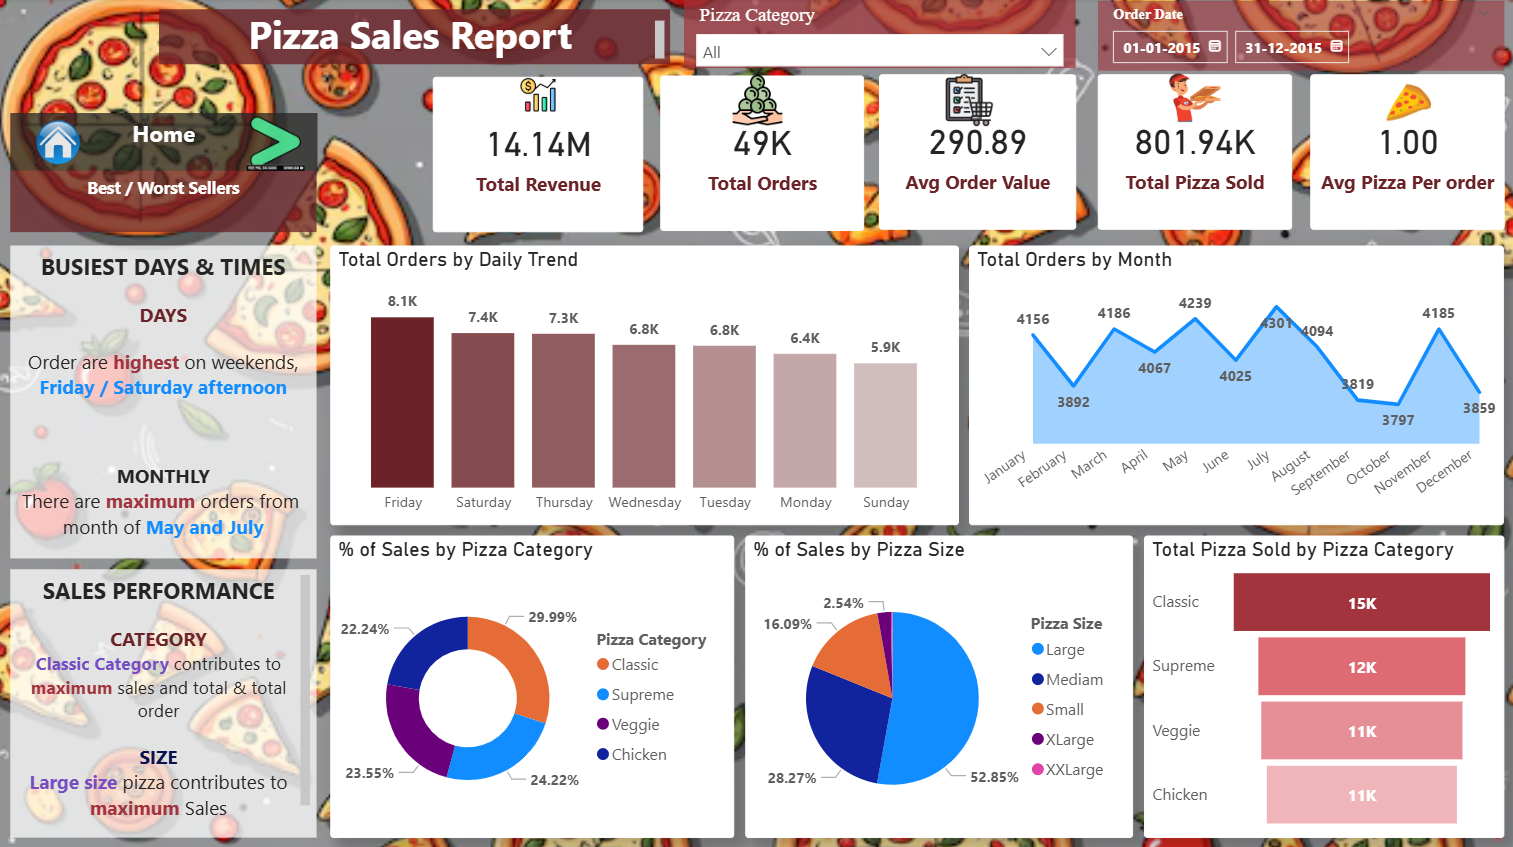

What the dashboard file says about the page in this screenshot:
{"tool":"powerbi","page":{"name":"Page 1","canvas":[1280,720],"ordinal":0},"visuals":[{"type":"clusteredColumnChart","fields":{"Y":["pizza_sales.Total Order"],"Category":["pizza_sales.Day Name"]},"box":[279.1,209.3,530.2,236],"z":0},{"type":"card","fields":{"Values":["pizza_sales.Total Order"]},"box":[558.1,65.1,172.1,131.4],"z":1000},{"type":"areaChart","fields":{"Category":["pizza_sales.order_date.Variation.Date Hierarchy.Month"],"Y":["pizza_sales.Total Order"]},"box":[818.6,209.3,451.2,236],"z":2000},{"type":"donutChart","fields":{"Category":["pizza_sales.pizza_category"],"Y":["pizza_sales.Total Order"]},"box":[279.4,453.4,340.6,255.2],"z":3000},{"type":"card","fields":{"Values":["pizza_sales.Total Sales"]},"box":[366.3,66.3,177.9,131.4],"z":4000},{"type":"pieChart","fields":{"Y":["pizza_sales.Total Sales"],"Category":["pizza_sales.pizza_size"]},"box":[629.5,453.4,326.9,255.2],"z":5000},{"type":"funnel","fields":{"Category":["pizza_sales.pizza_category"],"Y":["pizza_sales.Total Pizza Sold"]},"box":[965.9,453.4,303.7,255.2],"z":6000},{"type":"card","fields":{"Values":["pizza_sales.AOV"]},"box":[741.9,64,166.3,131.4],"z":7000},{"type":"card","fields":{"Values":["pizza_sales.Total Sold"]},"box":[926.7,64,164,131.4],"z":8000},{"type":"card","fields":{"Values":["pizza_sales.Avg Pizza Per order"]},"box":[1105.8,64,164,131.4],"z":9000},{"type":"textbox","box":[134.9,9.3,431.4,46.5],"z":10000},{"type":"textbox","box":[9.3,481.4,258.1,226.7],"z":11000},{"type":"textbox","box":[9.3,209.3,258.1,264],"z":12000},{"type":"textbox","box":[9.3,96.5,259.3,48.8],"z":13000},{"type":"textbox","box":[9.3,145.3,258.1,52.3],"z":14000},{"type":"image","box":[9.3,96.5,81.4,48.8],"z":15000},{"type":"image","box":[198.8,96.5,68.6,48.8],"z":16000},{"type":"slicer","fields":{"Values":["pizza_sales.pizza_category"]},"box":[577.9,0,330.2,59.3],"z":17000},{"type":"slicer","fields":{"Values":["pizza_sales.order_date"]},"box":[926.7,2.3,343,59.3],"z":18000},{"type":"image","box":[424.4,66.3,61.6,30.2],"z":19000},{"type":"image","box":[612.8,62.8,54.7,45.3],"z":20000},{"type":"image","box":[793,62.8,51.2,45.3],"z":21000},{"type":"image","box":[1129.1,65.1,119.8,45.3],"z":22000},{"type":"image","box":[975.6,57,66.3,51.2],"z":23000}]}

Visuals, with their boxes in screenshot pixels (x1, y1, x2, y2), scaled from the page's 1280x720 canvas onto the 1513x847 screenshot:
clusteredColumnChart - pizza_sales.Total Order x pizza_sales.Day Name: locate(330, 246, 957, 524)
card - pizza_sales.Total Order: locate(660, 77, 863, 231)
areaChart - pizza_sales.order_date.Variation.Date Hierarchy.Month x pizza_sales.Total Order: locate(968, 246, 1501, 524)
donutChart - pizza_sales.pizza_category x pizza_sales.Total Order: locate(330, 533, 733, 834)
card - pizza_sales.Total Sales: locate(433, 78, 643, 233)
pieChart - pizza_sales.Total Sales x pizza_sales.pizza_size: locate(744, 533, 1130, 834)
funnel - pizza_sales.pizza_category x pizza_sales.Total Pizza Sold: locate(1142, 533, 1501, 834)
card - pizza_sales.AOV: locate(877, 75, 1074, 230)
card - pizza_sales.Total Sold: locate(1095, 75, 1289, 230)
card - pizza_sales.Avg Pizza Per order: locate(1307, 75, 1501, 230)
textbox: locate(159, 11, 669, 66)
textbox: locate(11, 566, 316, 833)
textbox: locate(11, 246, 316, 557)
textbox: locate(11, 114, 317, 171)
textbox: locate(11, 171, 316, 232)
image: locate(11, 114, 107, 171)
image: locate(235, 114, 316, 171)
slicer - pizza_sales.pizza_category: locate(683, 0, 1073, 70)
slicer - pizza_sales.order_date: locate(1095, 3, 1501, 72)
image: locate(502, 78, 574, 114)
image: locate(724, 74, 789, 127)
image: locate(937, 74, 998, 127)
image: locate(1335, 77, 1476, 130)
image: locate(1153, 67, 1232, 127)
